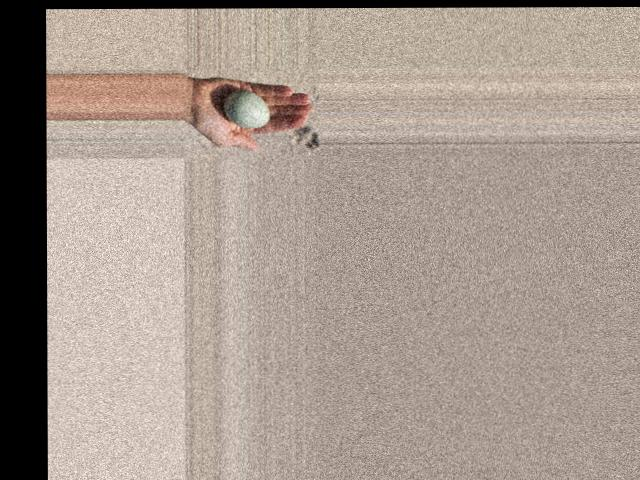egg: (225, 89, 271, 127)
